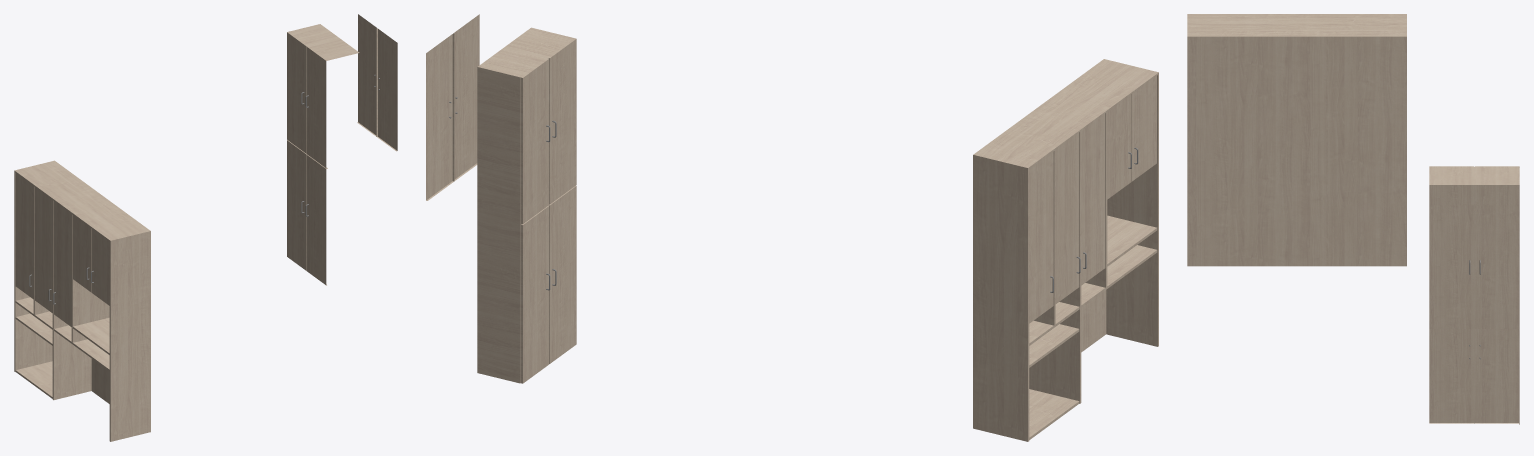
Rendered from fix18.fbx.
3 renders of one model, left to right at view 1: azimuth 30°, elevation 25°; view 2: azimuth 150°, elevation 25°; view 3: azimuth 270°, elevation 25°, orthographic. The views are drawn at different scales.
Visible parts, largest first — view 1: Object606483, Object606504, Object606461; view 2: Object606483, Object606504, Object606461; view 3: Object606483, Object606504, Object606461.
Boxes of the visible parts, bbox=[...] form: Object606483: bbox=[14, 160, 150, 441]; Object606504: bbox=[287, 24, 359, 285]; Object606461: bbox=[357, 14, 397, 151]; Object606483: bbox=[973, 59, 1158, 441]; Object606504: bbox=[477, 27, 576, 383]; Object606461: bbox=[426, 14, 479, 200]; Object606483: bbox=[1187, 14, 1406, 266]; Object606504: bbox=[1429, 166, 1519, 424]; Object606461: bbox=[1429, 204, 1519, 328].
Bounding box in the file's own units: 4244 × 2300 × 2687.
Materials: 2 (1 with a texture image).
